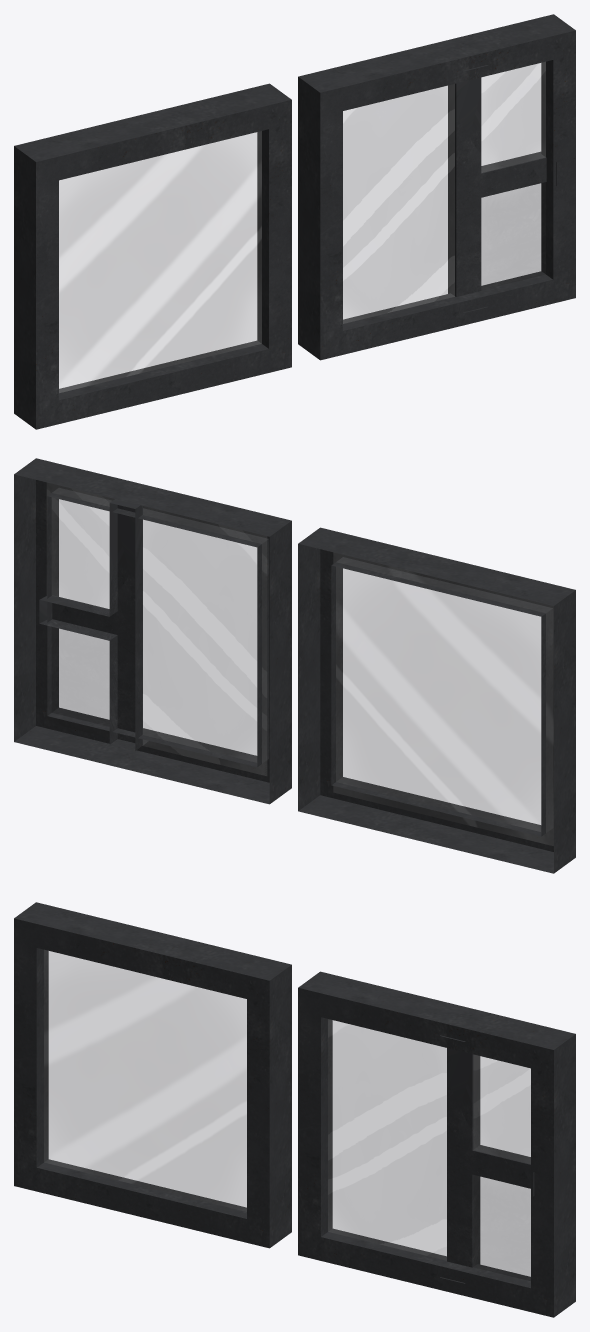
The model's file is URBAN-window-var1.fbx.
3 views of the same model, one above another, from view 1: azimuth 30°, elevation 25°; view 2: azimuth 150°, elevation 25°; view 3: azimuth 330°, elevation 25° (orthographic).
Visible parts, largest first — view 1: pPlane1, pCube3, pCube2, pPlane2, pPlane3; view 2: pPlane1, pPlane2, pCube3, pCube2, pPlane3; view 3: pPlane1, pCube3, pCube2, pPlane2, pPlane3.
Part boxes in pixels (box(x1,y1,x2,y2)): pPlane1: box(59, 131, 261, 392); pCube3: box(14, 83, 291, 429); pCube2: box(298, 14, 575, 360); pPlane2: box(343, 62, 556, 323); pPlane3: box(448, 77, 546, 296); pPlane1: box(333, 553, 553, 845); pPlane2: box(46, 483, 266, 775); pCube3: box(298, 527, 575, 873); pCube2: box(14, 458, 291, 804); pPlane3: box(39, 499, 142, 751); pPlane1: box(44, 950, 246, 1211); pCube3: box(14, 902, 291, 1248); pCube2: box(298, 971, 575, 1317); pPlane2: box(328, 1019, 534, 1283); pPlane3: box(447, 1048, 530, 1267).
Bounding box in the file's own units: 6.56 × 3.11 × 0.4819.
Materials: 4 (4 with a texture image).
